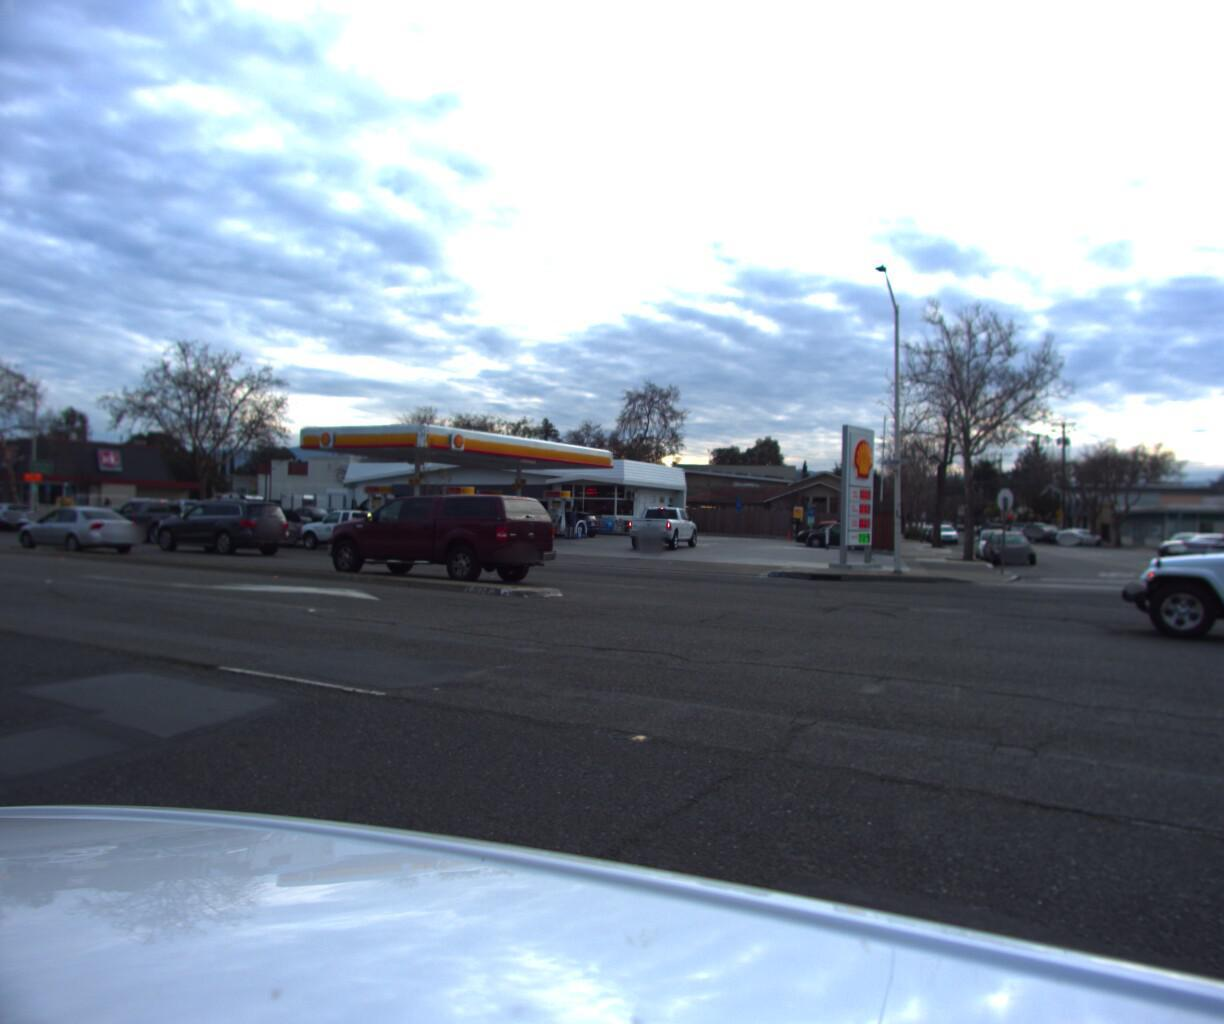car: (316, 491, 560, 587), (1128, 493, 1224, 665), (150, 492, 295, 559), (9, 507, 145, 558), (293, 508, 416, 558), (97, 502, 221, 548), (202, 507, 309, 552), (624, 505, 700, 551), (975, 525, 1040, 567), (807, 510, 888, 544), (523, 508, 605, 538), (797, 520, 880, 548), (1147, 531, 1224, 558), (963, 525, 1020, 561), (160, 504, 229, 530), (1171, 527, 1224, 559), (281, 504, 346, 529), (0, 504, 42, 538), (1196, 528, 1224, 566), (1051, 524, 1101, 543), (1027, 523, 1072, 540), (927, 522, 958, 545), (1014, 522, 1058, 537)
